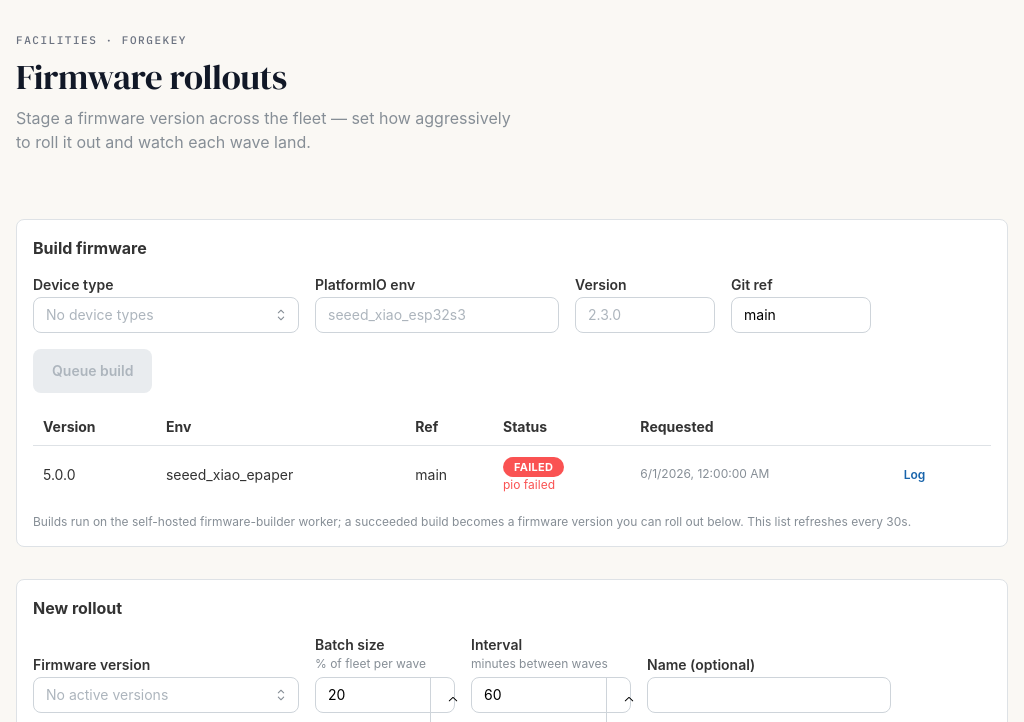
Test: ForgeKeyFirmwareRolloutsPage › opens a build log modal
Click the button with test id "build-log-b1" at (915, 475), box top-left (893, 453), bottom-right (937, 497)
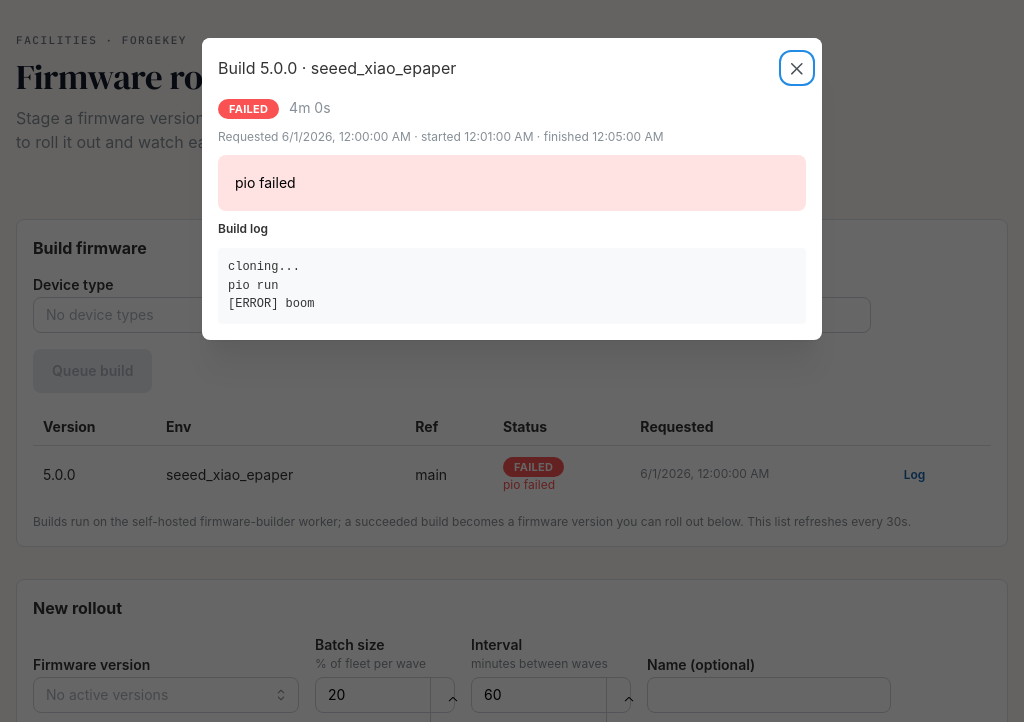
Result: the text with test id "build-log" shows "[ERROR] boom" at top-left (228, 260), bottom-right (314, 311)
